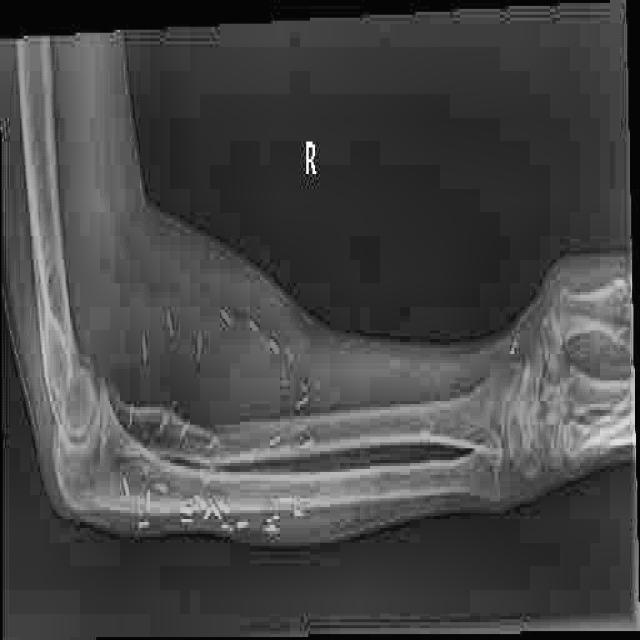forearm fracture: (195, 412, 230, 459)
